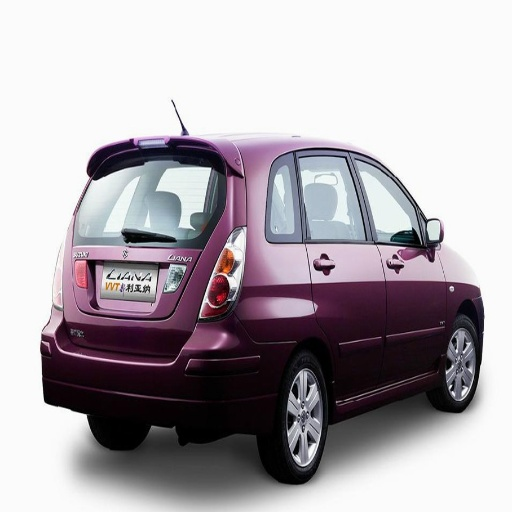back_bumper: (41, 298, 291, 405)
back_right_door: (267, 149, 384, 400)
tailgate: (64, 233, 195, 321)
trunk: (91, 237, 215, 297)
